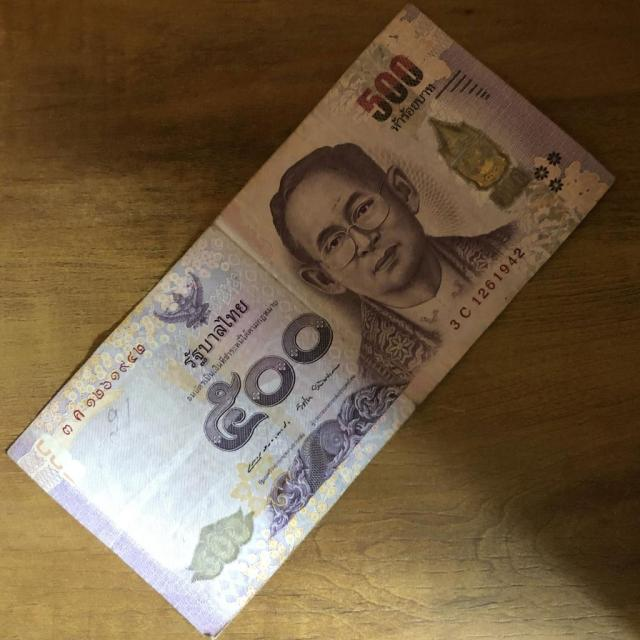THAI500: (8, 6, 613, 636)
